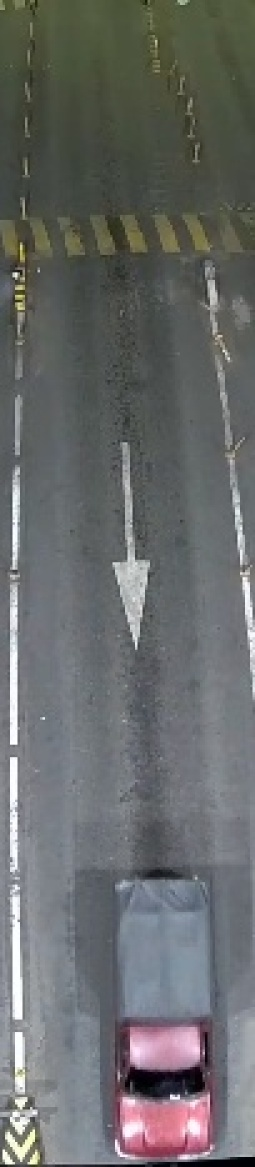car: (106, 1008, 230, 1163)
